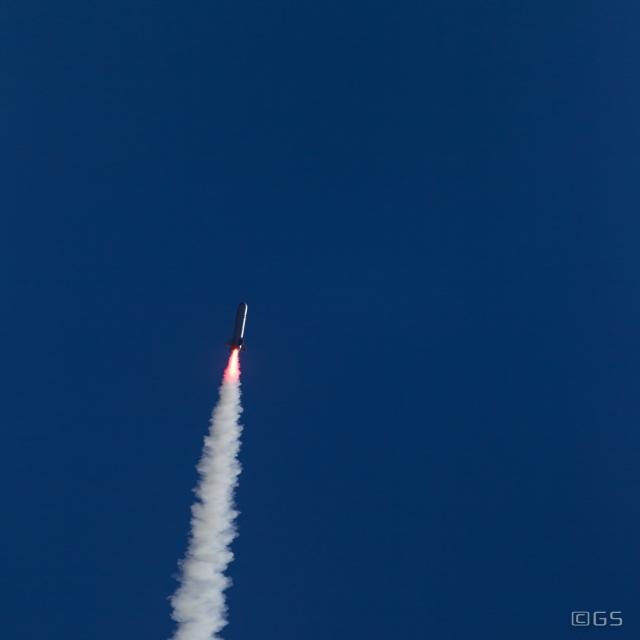Rocket: (223, 301, 251, 355)
